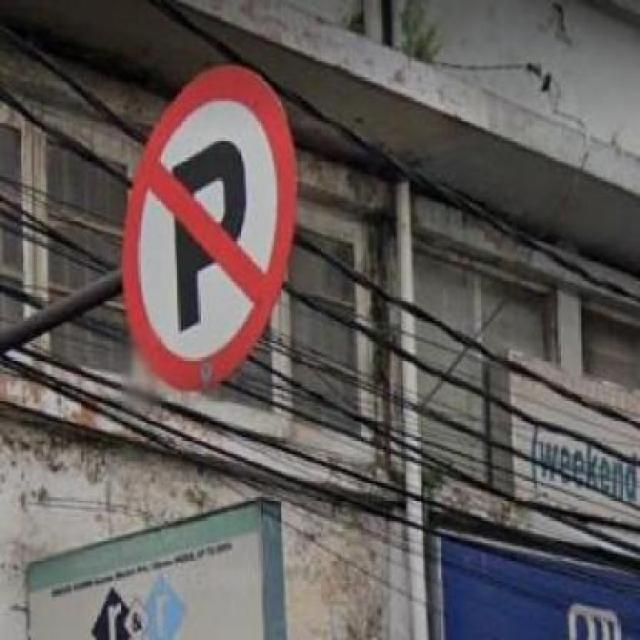no parking: (123, 70, 294, 384)
